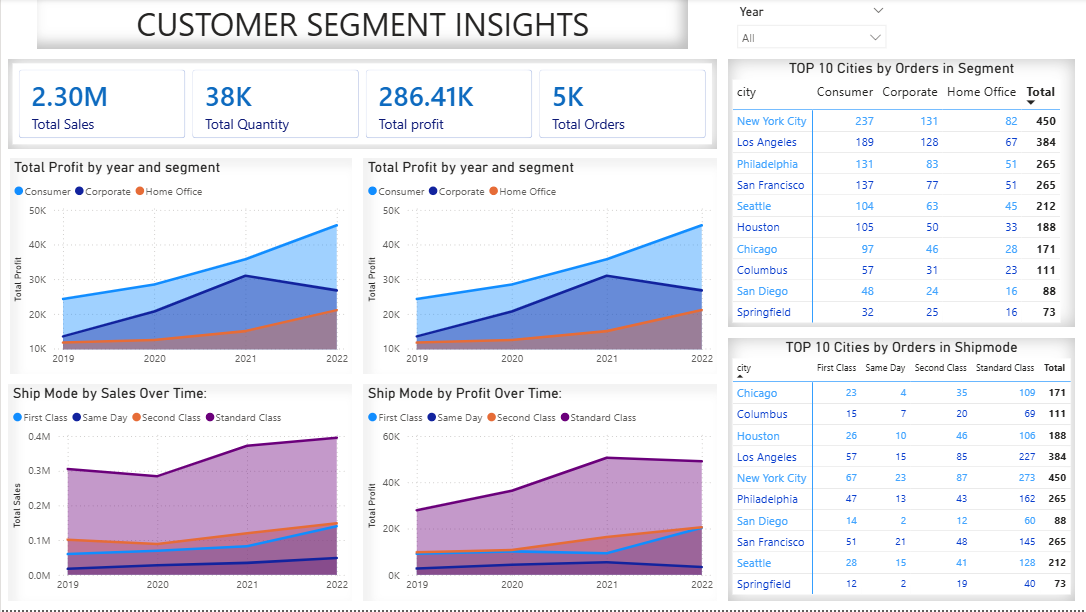

This screenshot's page, from the dashboard's own definition file:
{"tool":"powerbi","page":{"name":"CUSTOMER SEGMENT INSIGHTS","canvas":[1280,720],"ordinal":2},"visuals":[{"type":"cardVisual","fields":{"Data":["orders.Total Sales","Sum(orders.quantity)","Sum(orders.profit)","orders.Total Orders"]},"box":[8.8,72,833.4,105.8],"z":0},{"type":"pivotTable","title":"TOP 10 Cities by Orders in Segment","fields":{"Rows":["orders.city"],"Columns":["orders.segment"],"Values":["orders.Total Orders"]},"box":[855.5,72,407.2,314.6],"z":1000},{"type":"textbox","box":[42.6,0,765.8,60.3],"z":2000},{"type":"pivotTable","title":"TOP 10 Cities by Orders in Shipmode","fields":{"Rows":["orders.city"],"Values":["orders.Total Orders"],"Columns":["orders.ship_mode"]},"box":[855.5,399.8,407.2,308.7],"z":3000},{"type":"areaChart","title":"Ship Mode by Sales Over Time:","fields":{"Category":["DateTable.year"],"Y":["orders.Total Sales"],"Series":["orders.ship_mode"]},"box":[8.8,454.2,404.2,254.3],"z":4000},{"type":"areaChart","title":"Ship Mode by Profit Over Time:","fields":{"Category":["DateTable.year"],"Y":["orders.Total Profit"],"Series":["orders.ship_mode"]},"box":[426.3,454.2,416,254.3],"z":5000},{"type":"areaChart","fields":{"Category":["DateTable.year"],"Series":["orders.segment"],"Y":["orders.Total Profit"]},"box":[426.3,188.1,416,254.3],"z":6000},{"type":"areaChart","fields":{"Category":["DateTable.year"],"Series":["orders.segment"],"Y":["orders.Total Profit"]},"box":[10.3,188.1,402.8,254.3],"z":7000},{"type":"slicer","fields":{"Values":["DateTable.year"]},"box":[855.5,2.9,195.5,57.3],"z":8000}]}

Visuals, with their boxes in screenshot pixels (x1, y1, x2, y2), scaled from the page's 1280x720 canvas onto the 1086x612 screenshot:
cardVisual - orders.Total Sales x Sum(orders.quantity): box=[7, 61, 715, 151]
"TOP 10 Cities by Orders in Segment" pivotTable: box=[726, 61, 1071, 329]
textbox: box=[36, 0, 686, 51]
"TOP 10 Cities by Orders in Shipmode" pivotTable: box=[726, 340, 1071, 602]
"Ship Mode by Sales Over Time:" areaChart: box=[7, 386, 350, 602]
"Ship Mode by Profit Over Time:" areaChart: box=[362, 386, 715, 602]
areaChart - DateTable.year x orders.segment: box=[362, 160, 715, 376]
areaChart - DateTable.year x orders.segment: box=[9, 160, 350, 376]
slicer - DateTable.year: box=[726, 2, 892, 51]
